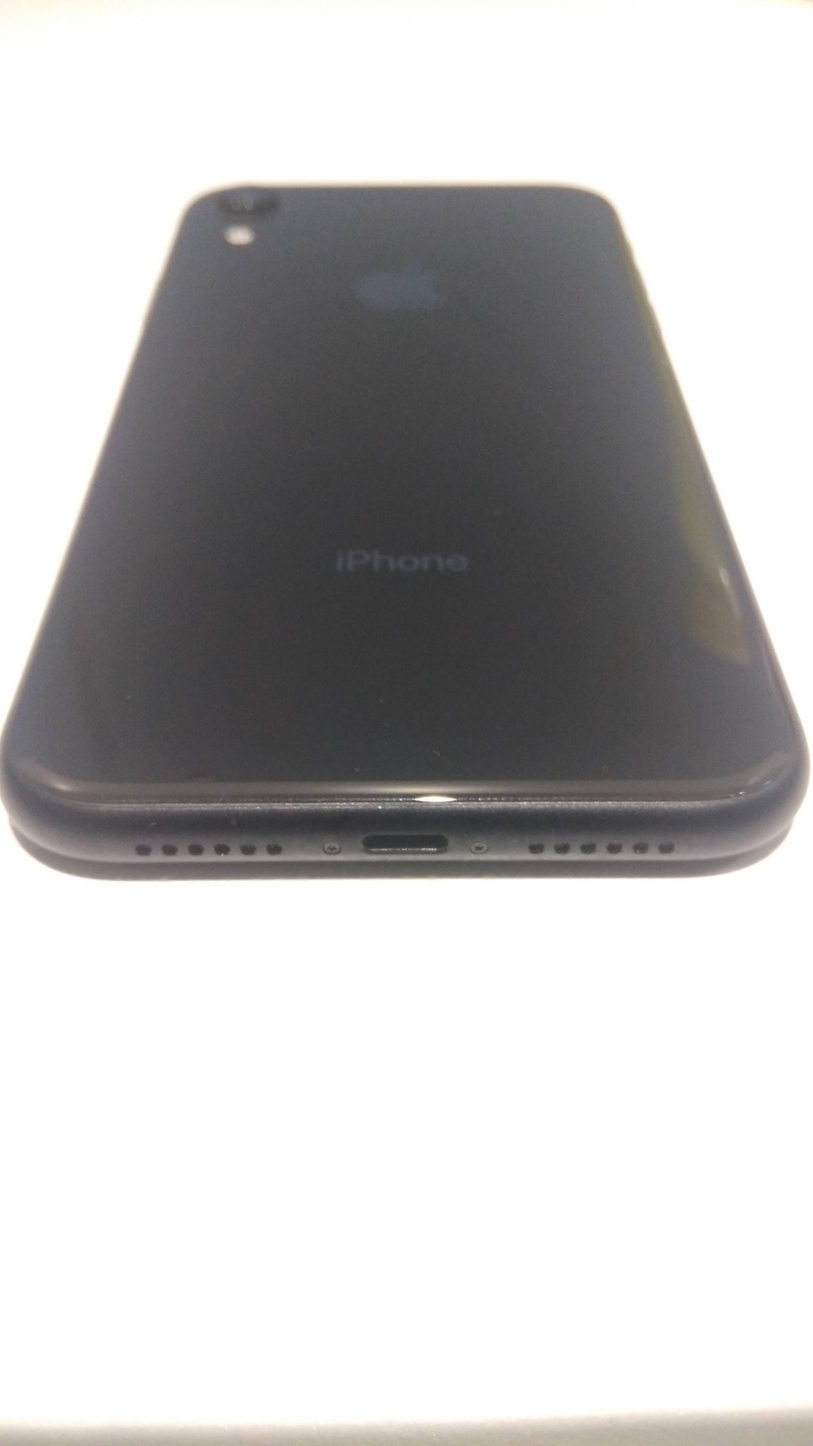Electronics: (0, 154, 813, 915)
